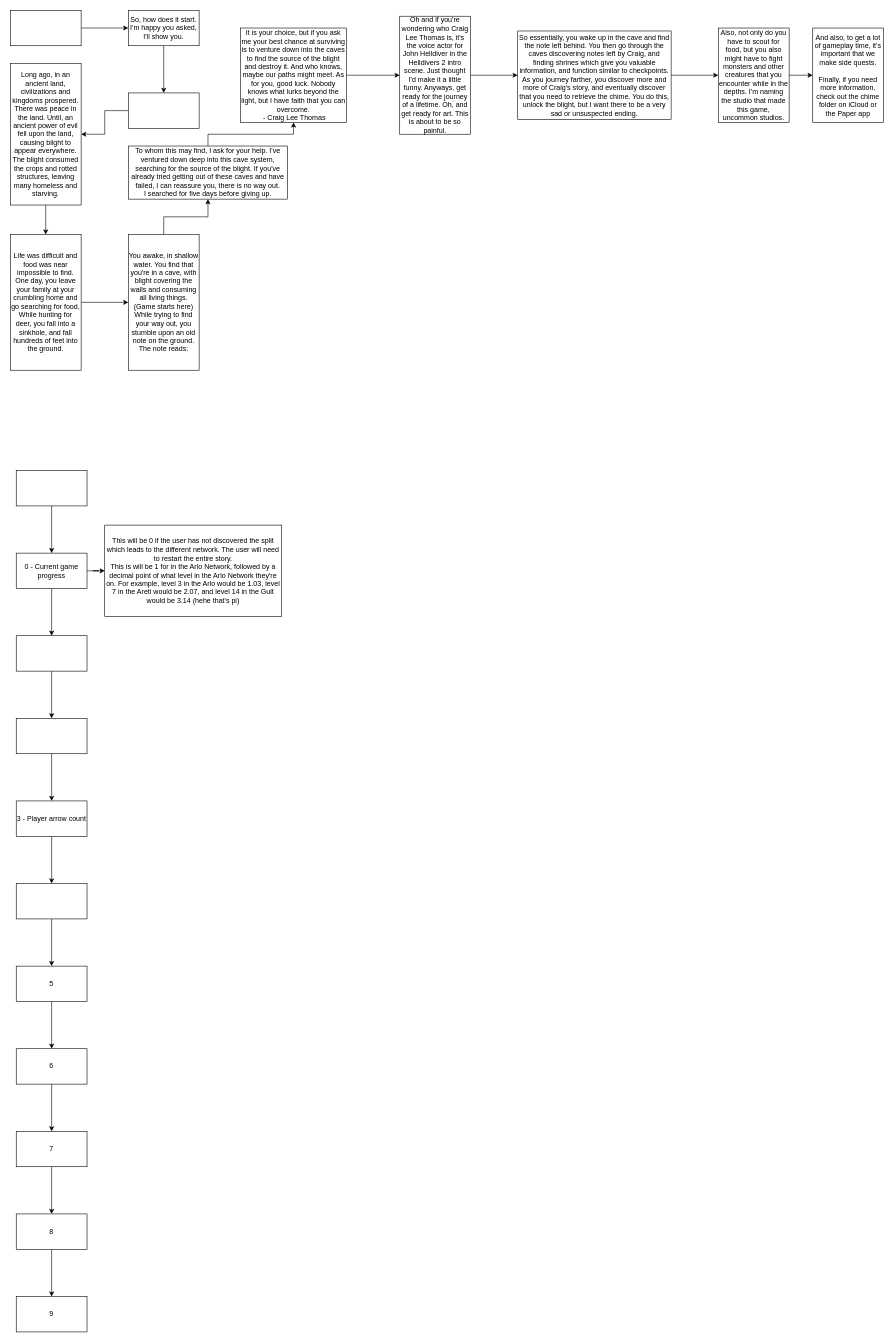
This 894x1342 diagram has some shape labels left out. The box of each missing label's shape, as (x1, y1, x2, y2) in pixels:
1 - Player x coordinate on the level tilemap: (16, 635, 87, 671)
2 - Player y coordinate on the level tilemap: (16, 718, 87, 754)
4 - Player health: (16, 883, 87, 919)
Chime, the newest best video game ever.: (10, 10, 81, 46)
First we need a little bit of a background story. It'll be something like this:: (128, 92, 199, 128)
gameData array description:: (16, 470, 87, 506)
